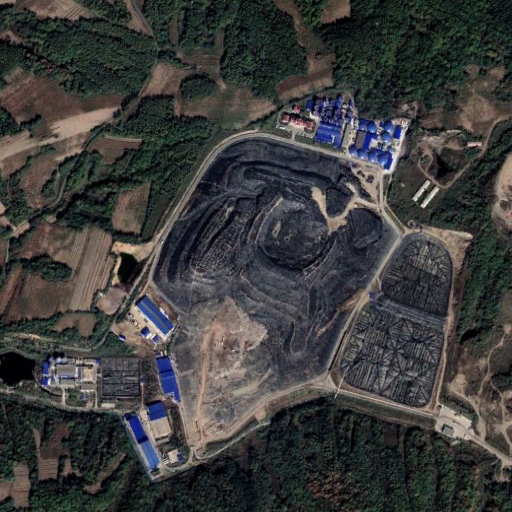lf: (151, 137, 399, 434)
